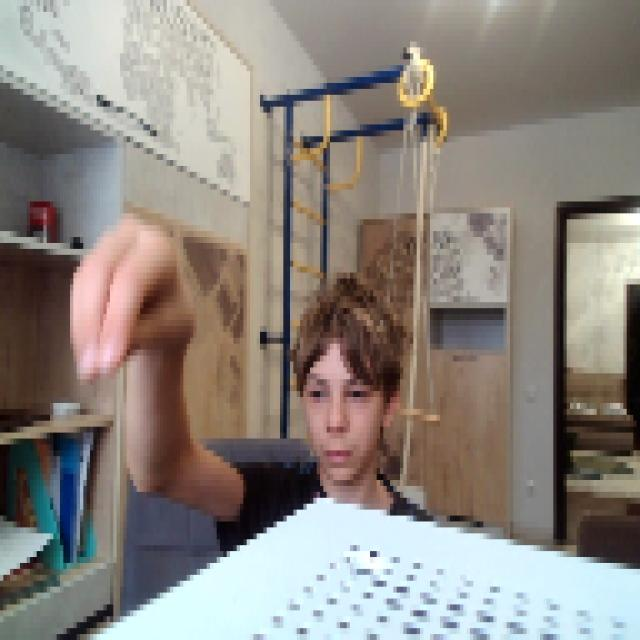left_click: (64, 208, 194, 380)
